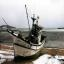fishing boat: (1, 5, 48, 61)
